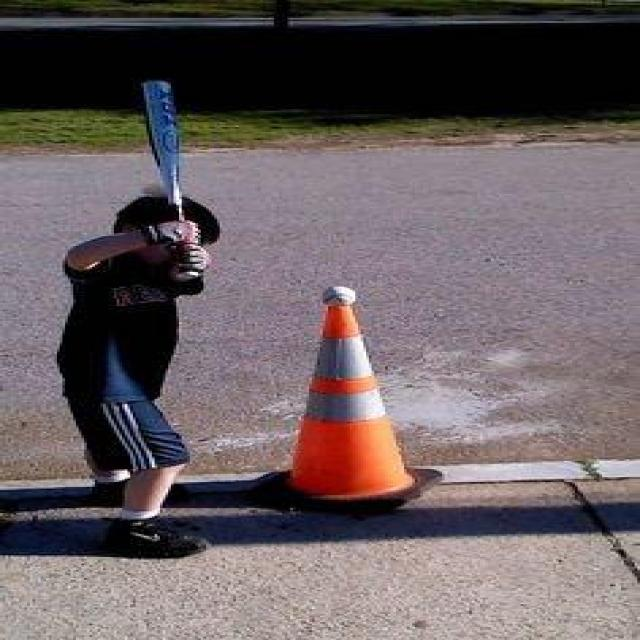Cone: (250, 286, 446, 518)
